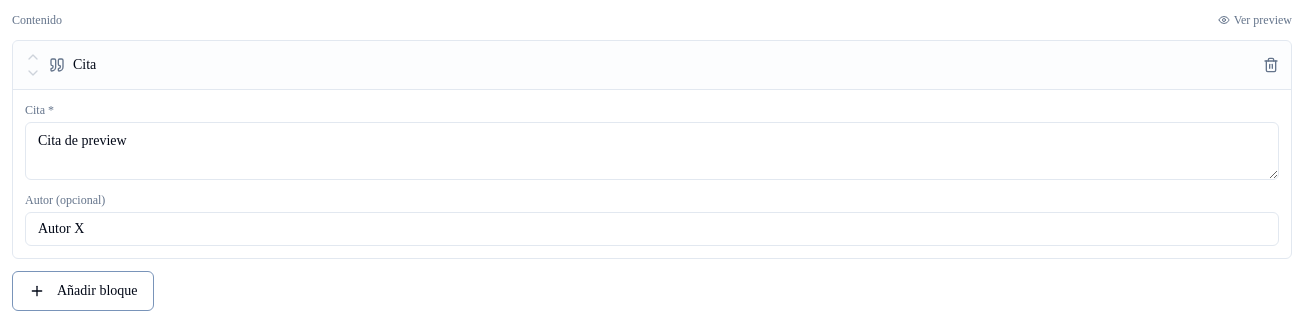
Scenario: BlockEditor — andamiaje › preview usa el mismo BlockRenderer que el sitio público
Click the button "Ver preview" at (1255, 20), box [1218,12,1292,28]
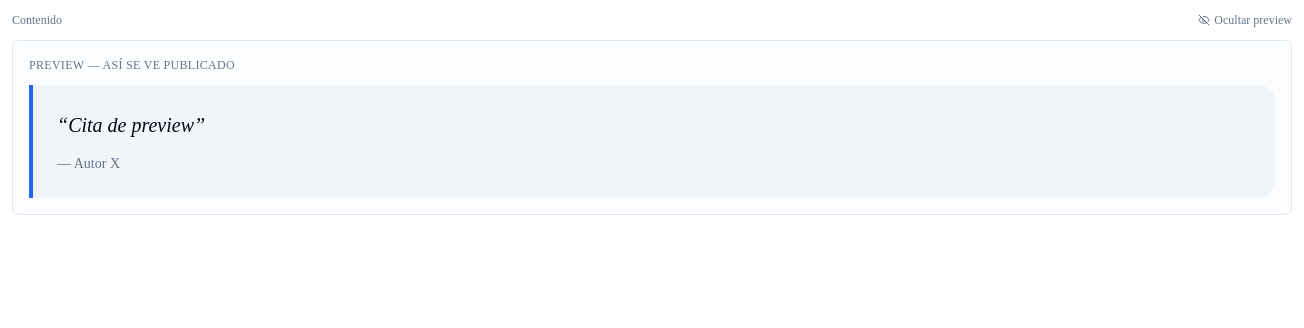
Expected: the text "Preview — así se ve publicado" is shown, [29,58,235,72]
Expected: the text "“Cita de preview”" is shown, [57,114,205,136]
Expected: the text "— Autor X" is shown, [57,156,120,170]
